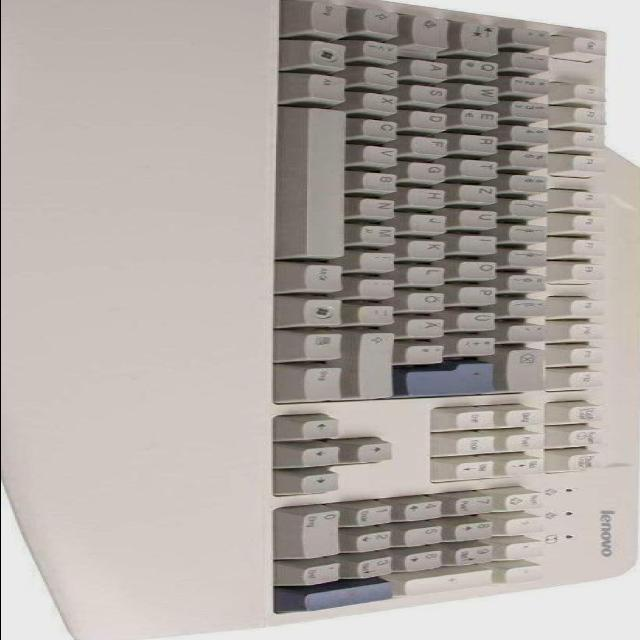0: (512, 272, 552, 290)
1: (515, 49, 555, 69)
2: (515, 75, 555, 93)
3: (513, 98, 553, 118)
4: (513, 122, 555, 142)
5: (511, 148, 553, 166)
6: (511, 173, 555, 191)
7: (513, 198, 553, 216)
8: (512, 223, 552, 241)
9: (510, 247, 552, 265)
a: (413, 58, 455, 78)
accent: (511, 322, 553, 340)
ae: (411, 317, 451, 337)
alt-left: (306, 70, 351, 102)
altgr-right: (283, 260, 350, 292)
b: (364, 170, 403, 192)
c: (365, 117, 403, 139)
caret: (517, 26, 556, 44)
comma: (362, 250, 400, 270)
d: (412, 109, 454, 129)
del: (510, 347, 550, 390)
e: (463, 107, 503, 127)
enter: (409, 361, 502, 395)
f: (415, 134, 454, 154)
g: (412, 160, 452, 180)
h: (412, 186, 451, 206)
hash: (409, 342, 449, 362)
i: (463, 234, 502, 252)
j: (413, 211, 452, 231)
k: (412, 238, 451, 258)
keyboard: (261, 0, 629, 620)
l: (411, 264, 451, 283)
less: (365, 38, 404, 61)
m: (362, 222, 401, 244)
minus: (362, 304, 400, 324)
n: (361, 197, 400, 217)
o: (462, 259, 502, 278)
oe: (411, 290, 451, 310)
p: (463, 285, 502, 304)
plus: (462, 335, 501, 353)
point: (362, 277, 400, 297)
q: (462, 57, 504, 79)
r: (463, 133, 503, 153)
s: (414, 83, 454, 103)
shift-left: (365, 5, 404, 35)
shift-lock: (415, 13, 454, 47)
shift-right: (362, 330, 400, 398)
space: (300, 104, 350, 258)
ss: (511, 298, 553, 316)
strg-left: (307, 0, 353, 36)
strg-right: (280, 362, 350, 402)
t: (463, 158, 502, 177)
tab: (461, 20, 505, 54)
u: (463, 208, 502, 227)
ue: (462, 310, 501, 329)
v: (365, 143, 403, 165)
w: (465, 82, 505, 102)
x: (365, 90, 404, 112)
y: (365, 64, 404, 86)
z: (463, 183, 502, 202)
